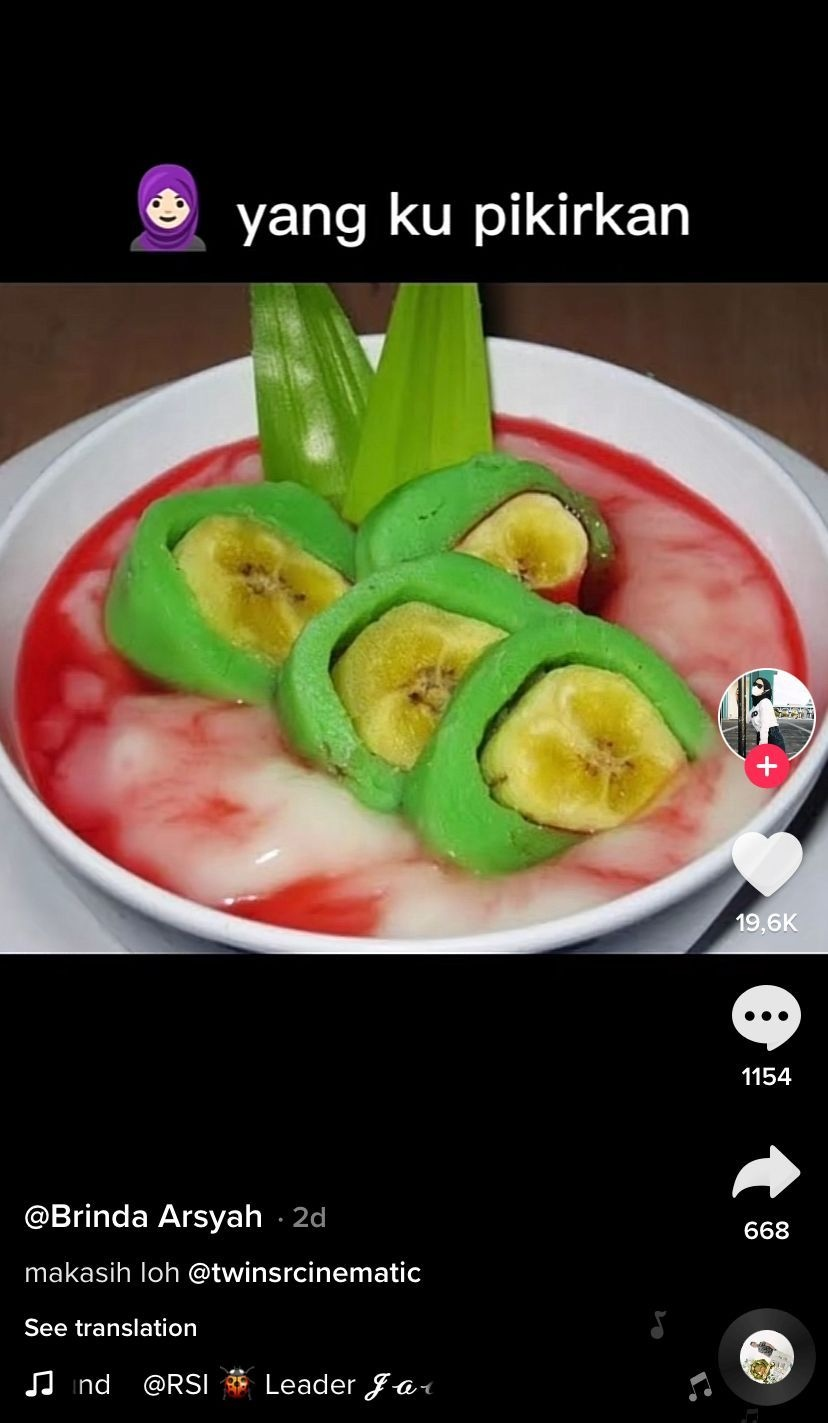pisang_ijo: (406, 595, 694, 873)
